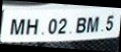character: (9, 18, 24, 35), (25, 18, 38, 34), (86, 16, 98, 32), (75, 16, 85, 33), (47, 17, 56, 34), (57, 17, 66, 34), (105, 15, 113, 31)
